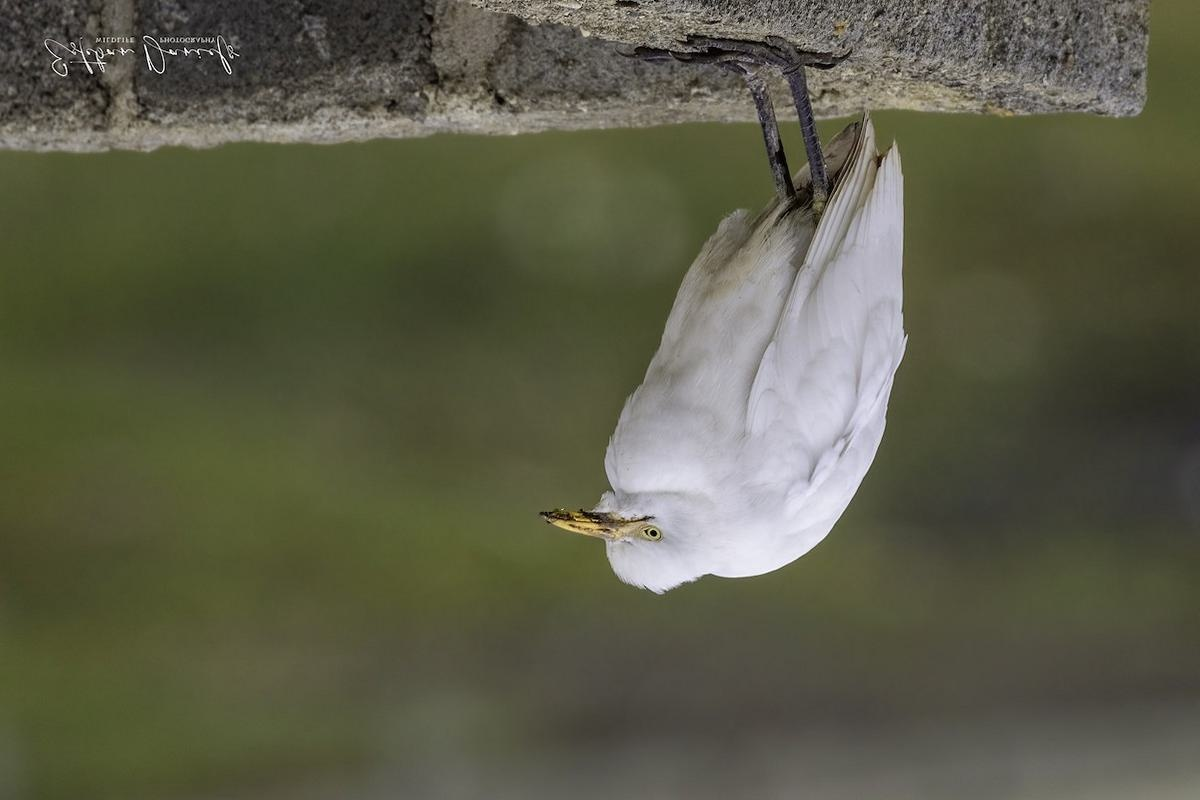egret: (523, 44, 958, 632)
